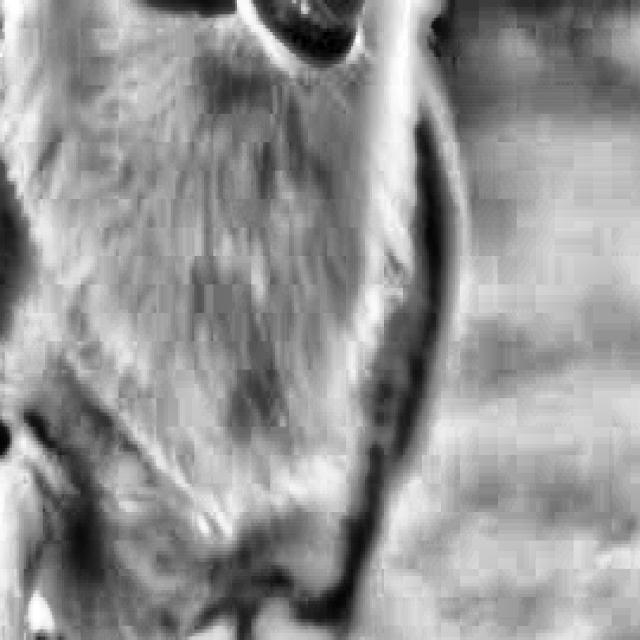dog: (0, 0, 538, 640), (616, 0, 640, 640)
